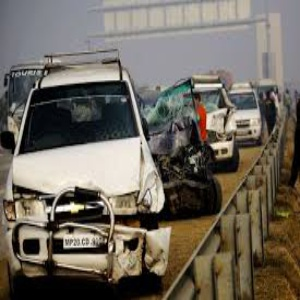bumper: (88, 201, 172, 283)
